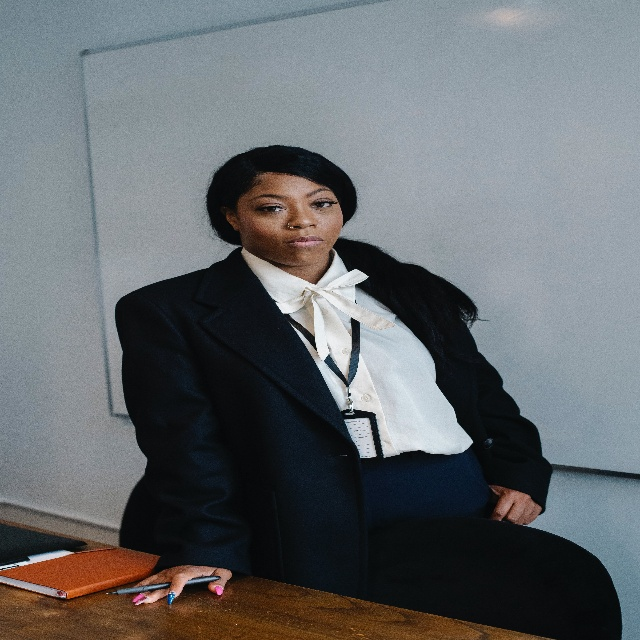Sin_guantes: (130, 561, 233, 607), (490, 483, 543, 528)
